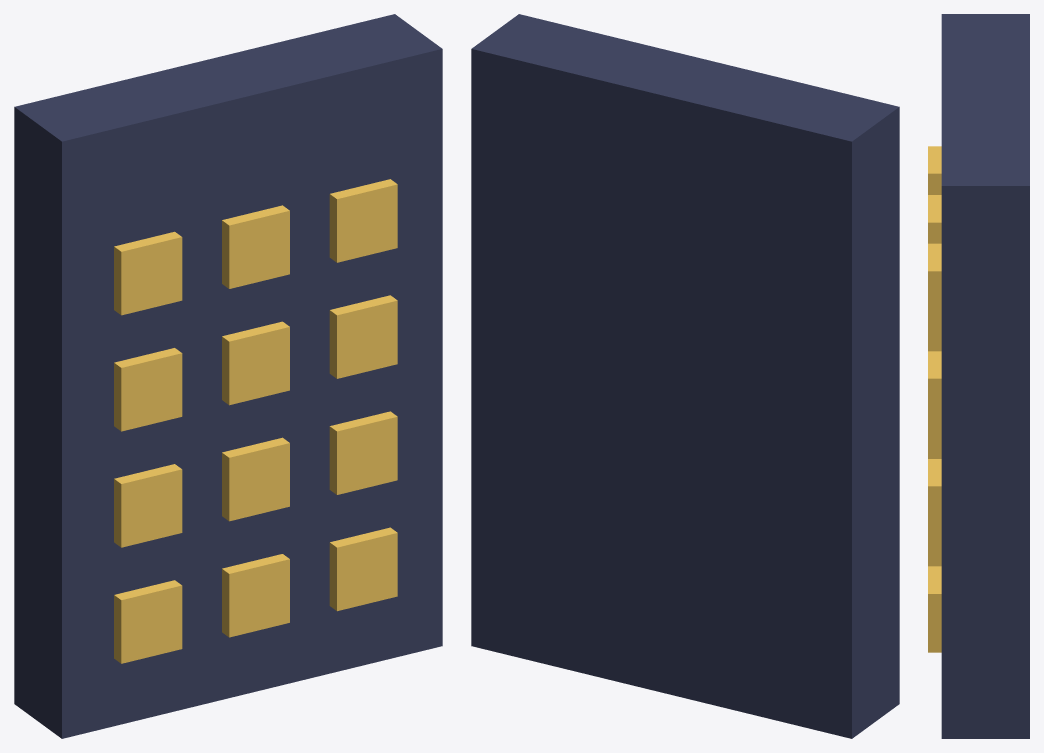
File: keypad.glb
3 views of the same model, side by side, from view 1: azimuth 30°, elevation 25°; view 2: azimuth 150°, elevation 25°; view 3: azimuth 270°, elevation 25° (orthographic). The views are drawn at different scales.
Parts seen in each view (by area): view 1: keypad; view 2: keypad; view 3: keypad.
Boxes of the visible parts, x1,y1,x2,y2 form: keypad: (14, 14, 442, 738); keypad: (471, 14, 899, 738); keypad: (928, 14, 1029, 738).
Size of the model in its own units: 0.12 by 0.18 by 0.03.
